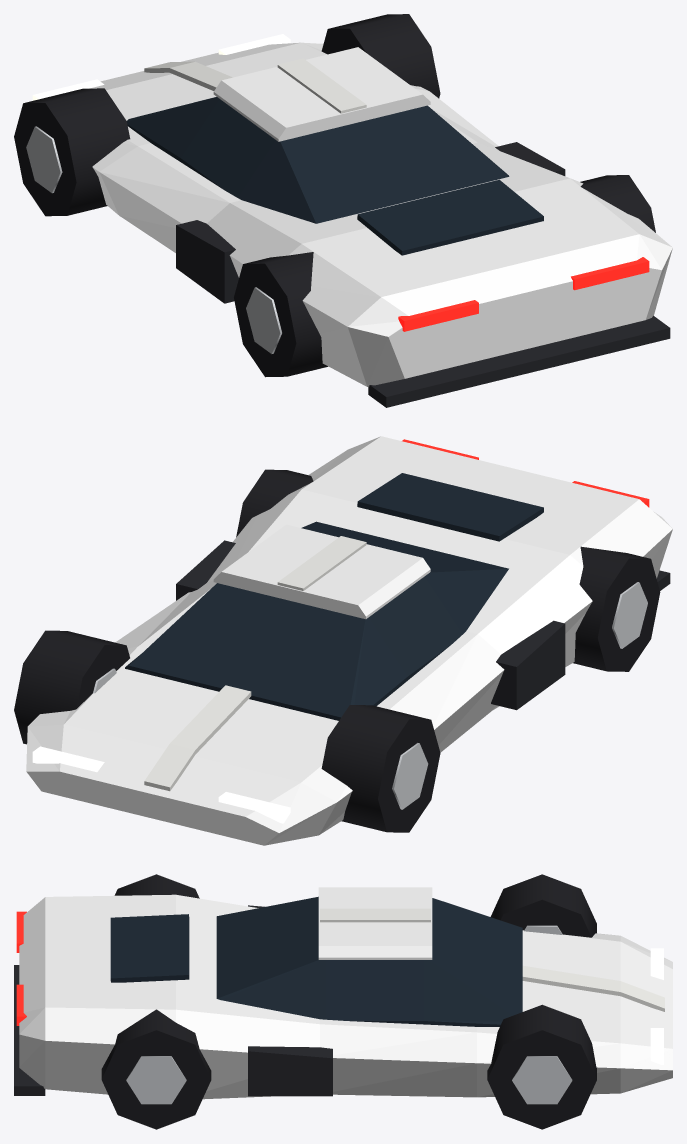
Rendered from super.glb.
3 renders of one model, top to bottom at view 1: azimuth 30°, elevation 25°; view 2: azimuth 150°, elevation 25°; view 3: azimuth 270°, elevation 25°, orthographic. The views are drawn at different scales.
Visible parts, largest first — view 1: object 1, object 2, wheel (×4), object 3, object 12, object 13, object 4, wheel-hub (×2), object 11, object 10, object 6, object 9 (+2 smaller); view 2: object 1, object 2, wheel (×4), object 3, object 12, object 4, object 10, wheel-hub (×2), object 11, object 7, object 5, object 8; view 3: object 1, object 2, wheel (×4), object 3, object 12, wheel-hub (×2), object 7, object 10, object 11, object 13, object 8, object 5.
Part boxes in pixels (left/top/right/bottom): object 1: left=89, top=42, right=672, bottom=386; object 2: left=127, top=97, right=509, bottom=223; wheel (×4): left=14, top=14, right=655, bottom=377; object 3: left=213, top=47, right=430, bottom=141; object 12: left=357, top=179, right=543, bottom=255; object 13: left=368, top=316, right=670, bottom=407; object 4: left=176, top=220, right=238, bottom=303; wheel-hub (×2): left=26, top=126, right=281, bottom=353; object 11: left=277, top=58, right=366, bottom=113; object 10: left=144, top=61, right=232, bottom=90; object 6: left=398, top=300, right=478, bottom=331; object 9: left=571, top=257, right=649, bottom=290; object 1: left=26, top=436, right=672, bottom=845; object 2: left=125, top=521, right=508, bottom=720; wheel (×4): left=14, top=469, right=660, bottom=832; object 3: left=213, top=524, right=430, bottom=619; object 12: left=357, top=473, right=543, bottom=541; object 4: left=491, top=620, right=565, bottom=710; object 10: left=144, top=685, right=251, bottom=791; wheel-hub (×2): left=392, top=582, right=647, bottom=809; object 11: left=277, top=536, right=366, bottom=590; object 7: left=176, top=540, right=235, bottom=600; object 5: left=218, top=792, right=290, bottom=823; object 8: left=32, top=746, right=104, bottom=772; object 1: left=19, top=894, right=672, bottom=1099; object 2: left=216, top=896, right=522, bottom=1026; wheel (×4): left=101, top=874, right=596, bottom=1129; object 3: left=318, top=887, right=432, bottom=959; object 12: left=110, top=914, right=189, bottom=982; wheel-hub (×2): left=126, top=1056, right=572, bottom=1104; object 7: left=248, top=1046, right=332, bottom=1096; object 10: left=522, top=965, right=664, bottom=1011; object 11: left=320, top=908, right=430, bottom=922; object 13: left=14, top=965, right=45, bottom=1095; object 8: left=650, top=1028, right=663, bottom=1064; object 5: left=650, top=948, right=663, bottom=979.
Size of the model in its own units: 2.85 by 1.16 by 5.04.
